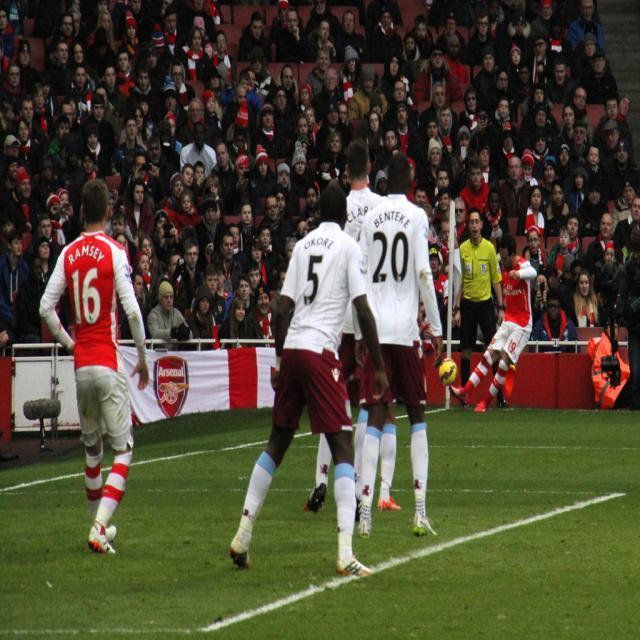football: (433, 358, 458, 395)
